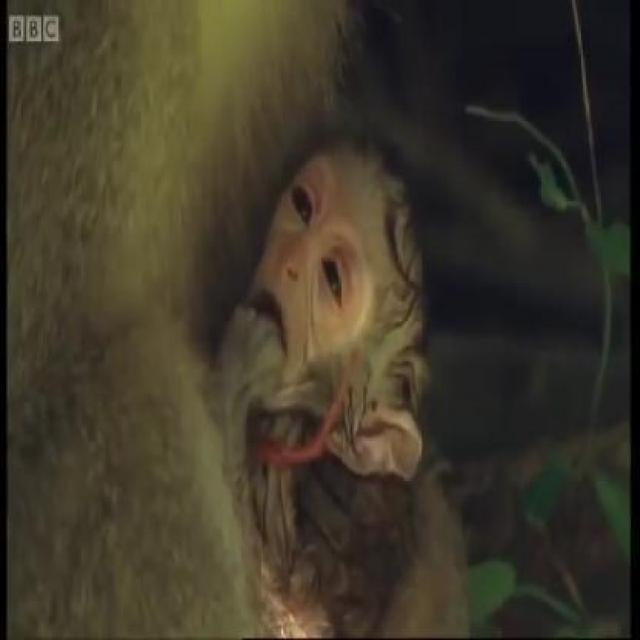Monkey: (255, 127, 492, 628)
